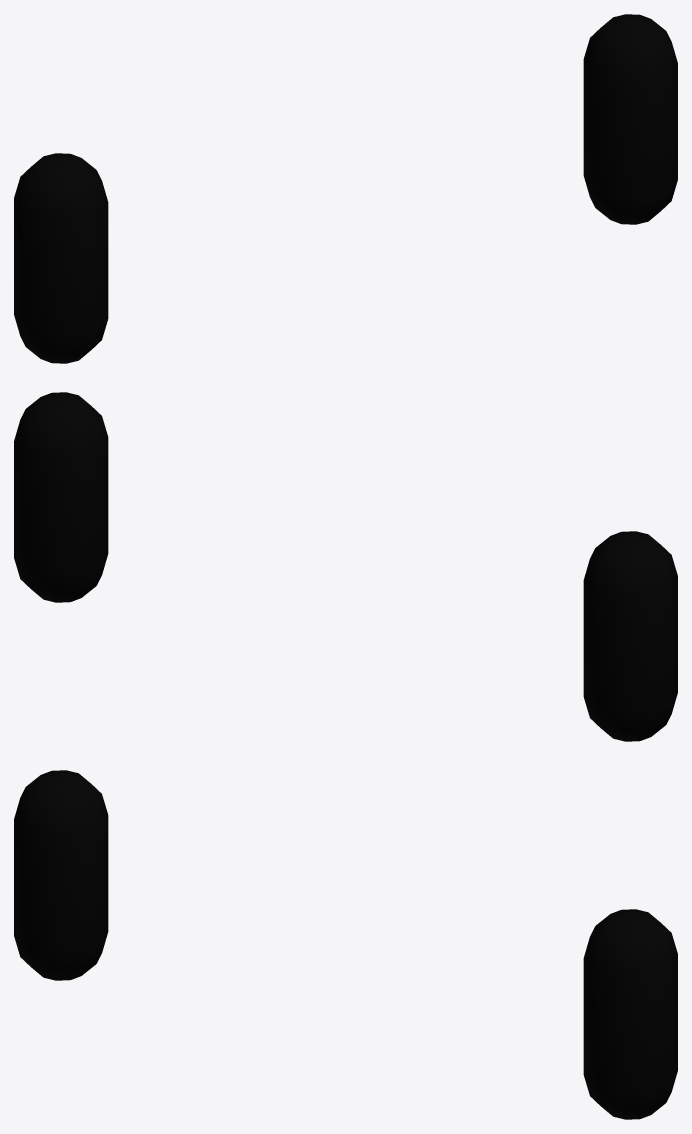
The model's file is Eyes_MM_Open.fbx.
3 views of the same model, one above another, from view 1: azimuth 30°, elevation 25°; view 2: azimuth 150°, elevation 25°; view 3: azimuth 330°, elevation 25° (orthographic).
Visible parts, largest first — view 1: Eye_Open; view 2: Eye_Open; view 3: Eye_Open.
Boxes of the visible parts, bbox=[...] form: Eye_Open: bbox=[14, 14, 677, 363]; Eye_Open: bbox=[14, 392, 677, 741]; Eye_Open: bbox=[14, 770, 677, 1119].
Bounding box in the file's own units: 12.24 × 3.63 × 1.47.
1 material, 1 textured.
